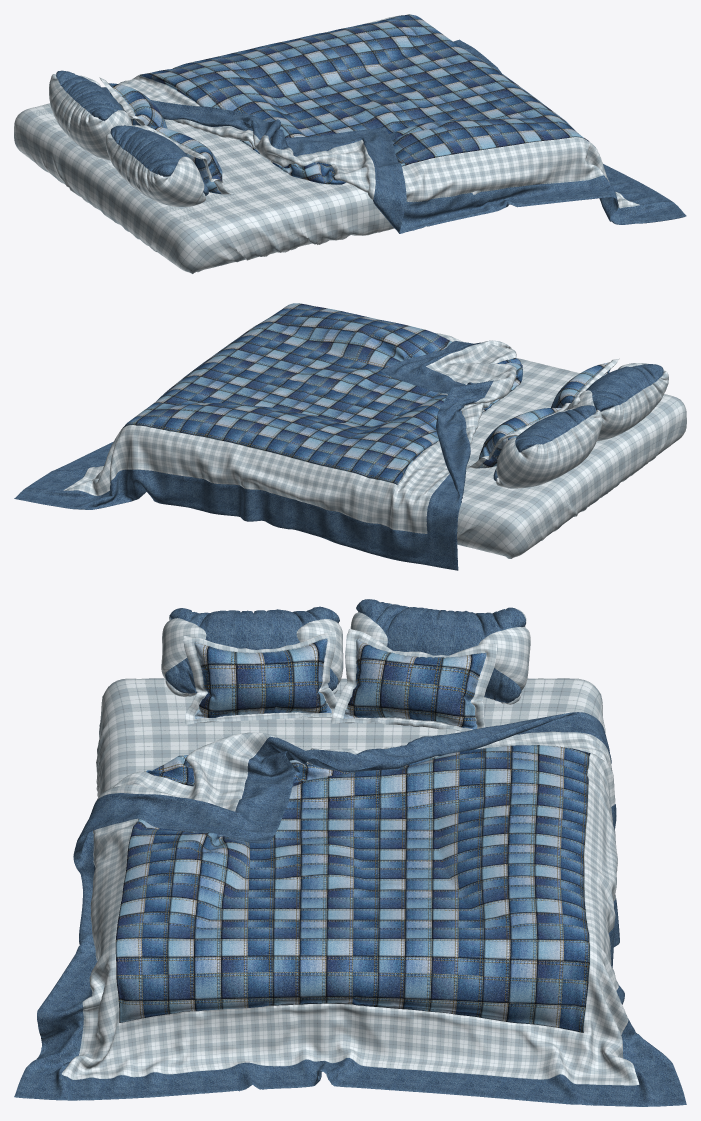
The model's file is Bed.glb.
The picture shows the model from 3 angles, top to bottom: view 1: azimuth 30°, elevation 25°; view 2: azimuth 150°, elevation 25°; view 3: azimuth 270°, elevation 25°; orthographic projection. The views are drawn at different scales.
Visible parts, largest first — view 1: quilt, sheet, pillow4, pillow3, pillow2, pillow1; view 2: quilt, sheet, pillow3, pillow4, pillow1, pillow2; view 3: quilt, sheet, pillow1, pillow2, pillow3, pillow4.
Part boxes in pixels (x1,y1,x2,y2): quilt: [101, 14, 686, 233]; sheet: [14, 103, 481, 273]; pillow4: [105, 125, 208, 206]; pillow3: [49, 70, 131, 160]; pillow2: [136, 124, 234, 194]; pillow1: [99, 77, 167, 128]; quilt: [14, 303, 522, 570]; sheet: [457, 358, 686, 558]; pillow3: [493, 405, 602, 488]; pillow4: [572, 363, 668, 441]; pillow1: [466, 403, 570, 468]; pillow2: [551, 358, 619, 409]; quilt: [14, 712, 686, 1106]; sheet: [96, 678, 605, 797]; pillow1: [331, 629, 496, 731]; pillow2: [183, 631, 337, 724]; pillow3: [350, 599, 530, 704]; pillow4: [161, 606, 343, 696].
Size of the model in its own units: 2.39 by 0.6001 by 2.02.
3 materials, 3 textured.
